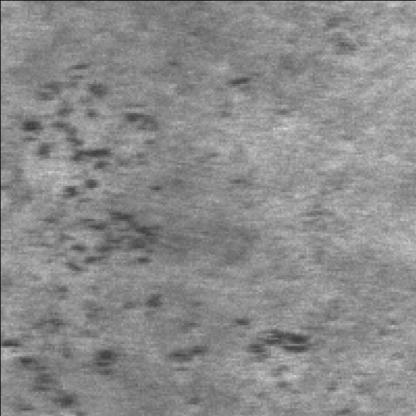rolled-in_scale: (8, 37, 162, 325), (129, 301, 335, 384), (0, 301, 121, 416)
